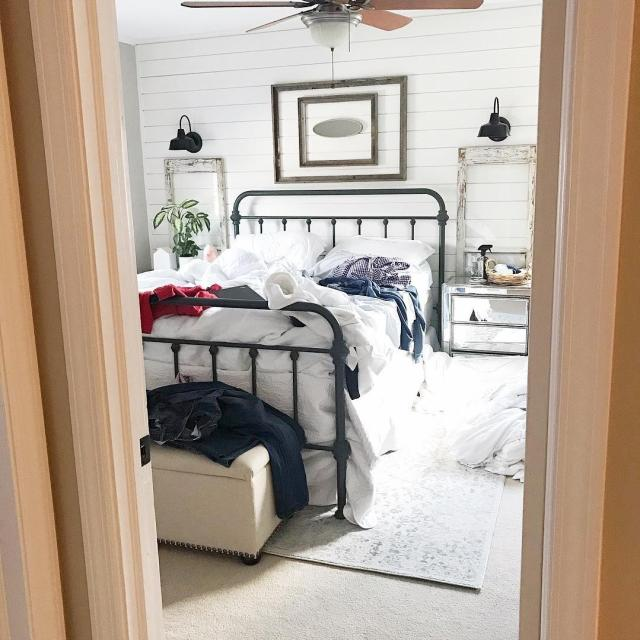bed: (142, 211, 448, 401)
